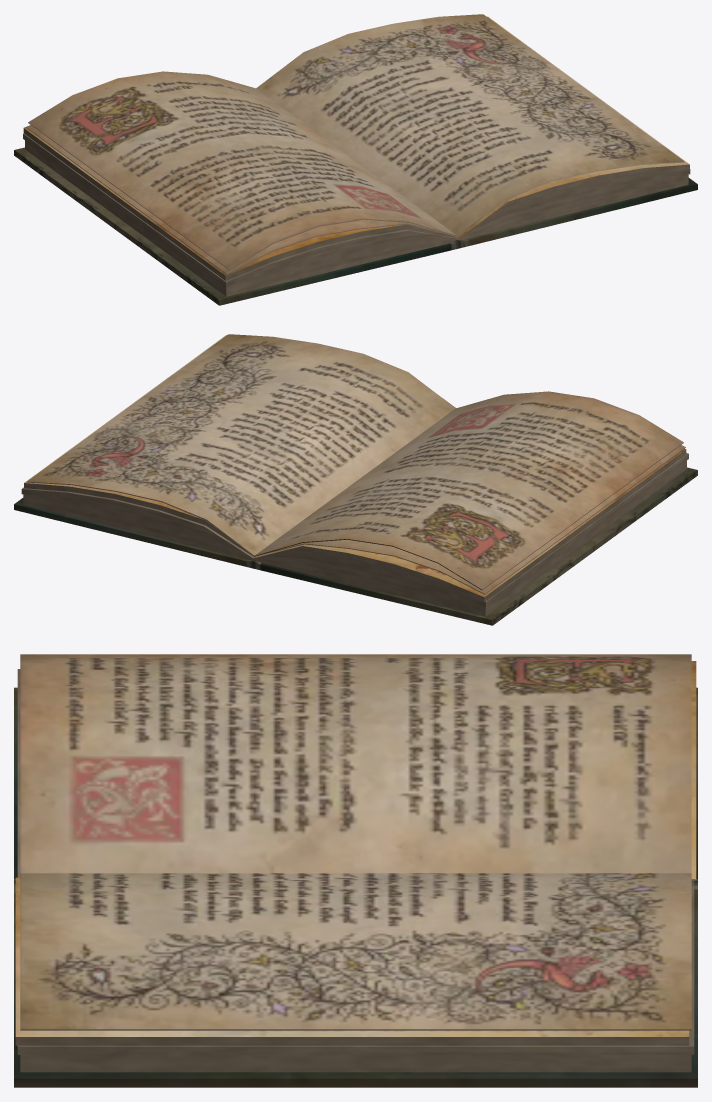
The model's file is book.glb.
3 renders of one model, top to bottom at view 1: azimuth 30°, elevation 25°; view 2: azimuth 150°, elevation 25°; view 3: azimuth 270°, elevation 25°, orthographic. The views are drawn at different scales.
Visible parts, largest first — view 1: KB3D_ECI_PropOpenBook_A_Main; view 2: KB3D_ECI_PropOpenBook_A_Main; view 3: KB3D_ECI_PropOpenBook_A_Main.
Boxes of the visible parts, left/top/right/bottom form: KB3D_ECI_PropOpenBook_A_Main: left=14, top=14, right=697, bottom=305; KB3D_ECI_PropOpenBook_A_Main: left=14, top=334, right=697, bottom=625; KB3D_ECI_PropOpenBook_A_Main: left=14, top=654, right=697, bottom=1087.
Size of the model in its own units: 0.3998 by 0.0439 by 0.2968.
1 material, 1 textured.
